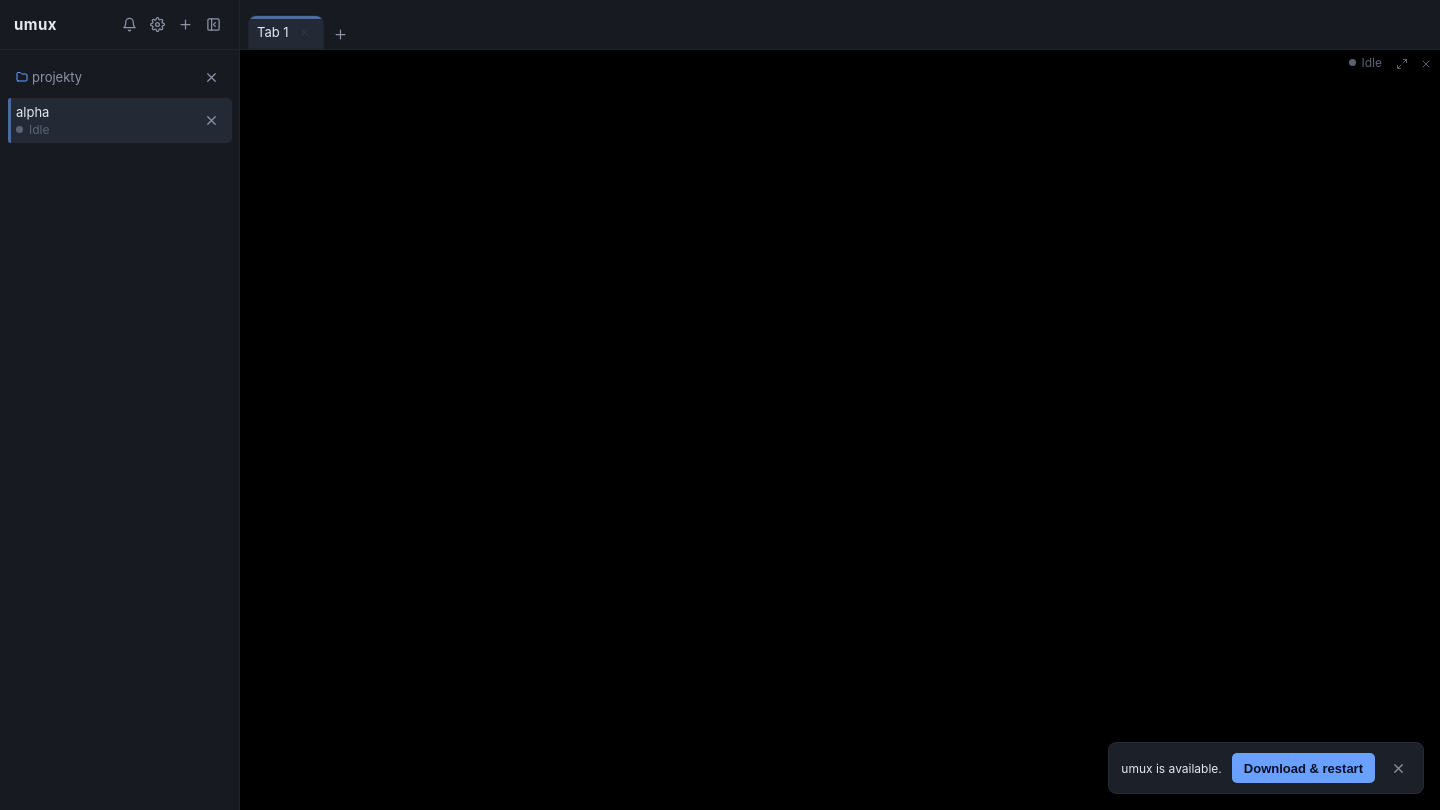
it: WorkspaceShell › workspace rows render NO inline rename pencil; group rows keep theirs (#71)
Expected: the text "alpha" is shown, [16, 104, 49, 120]
Right-click the list item with test id "workspace-row-ws-1": (120, 120) [8, 98, 232, 143]
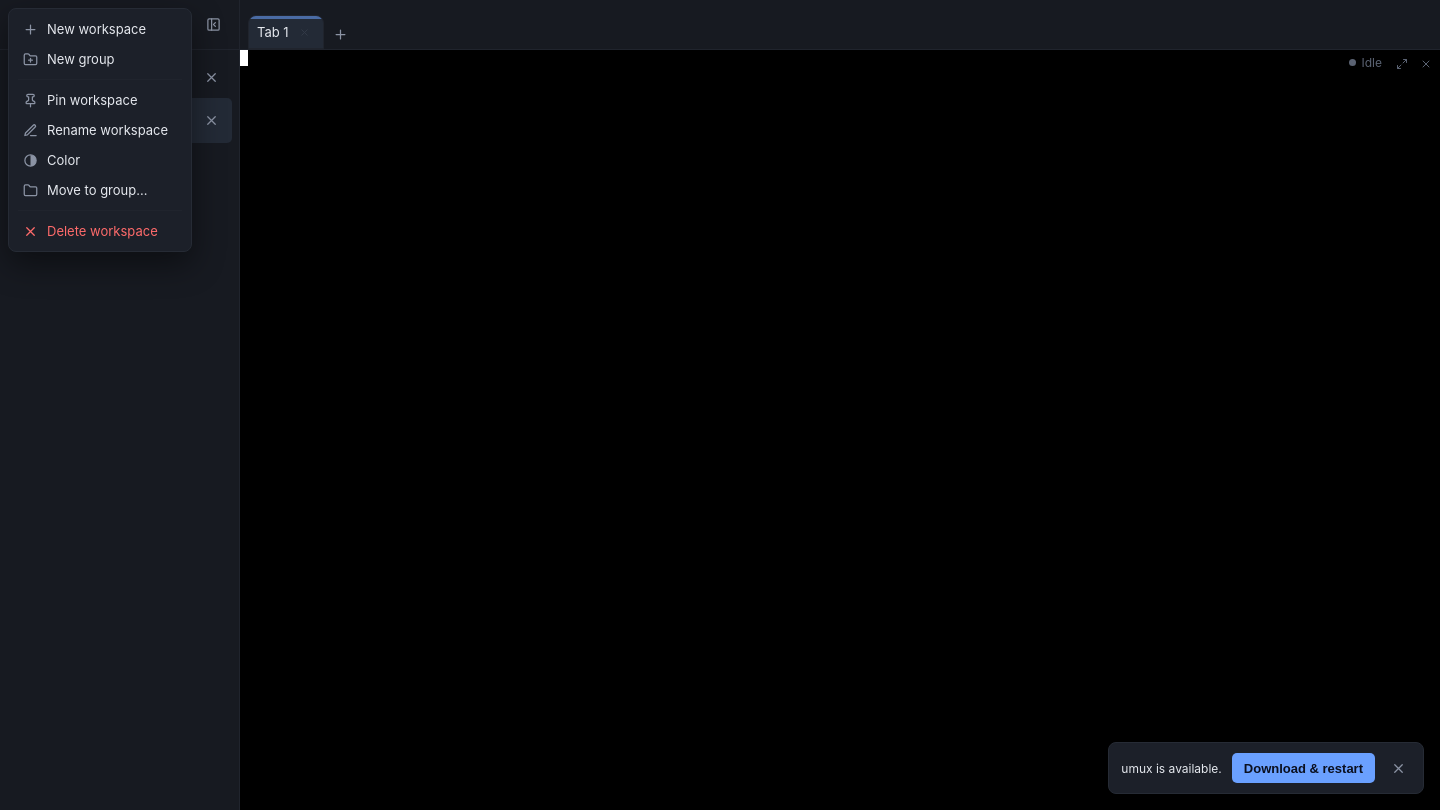
Click the menu item "Rename workspace": click(100, 130) [14, 115, 186, 145]
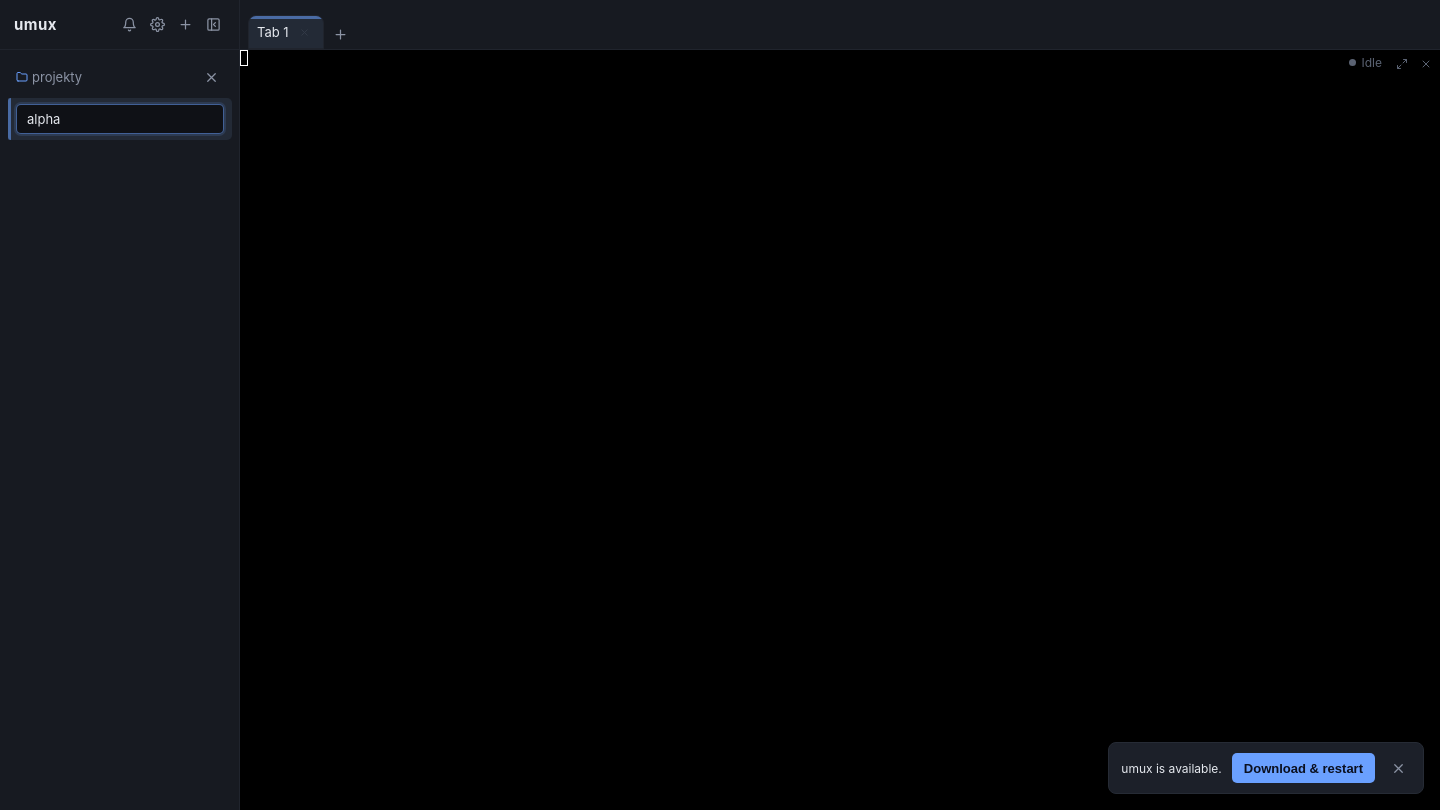
Now the field named "rename workspace" is shown, box [16, 104, 224, 134]
Note: The group menu's "Rename group" drives the group's inline edit.
Right-click the list item with test id "group-row-g-1": (57, 77) [8, 58, 232, 96]
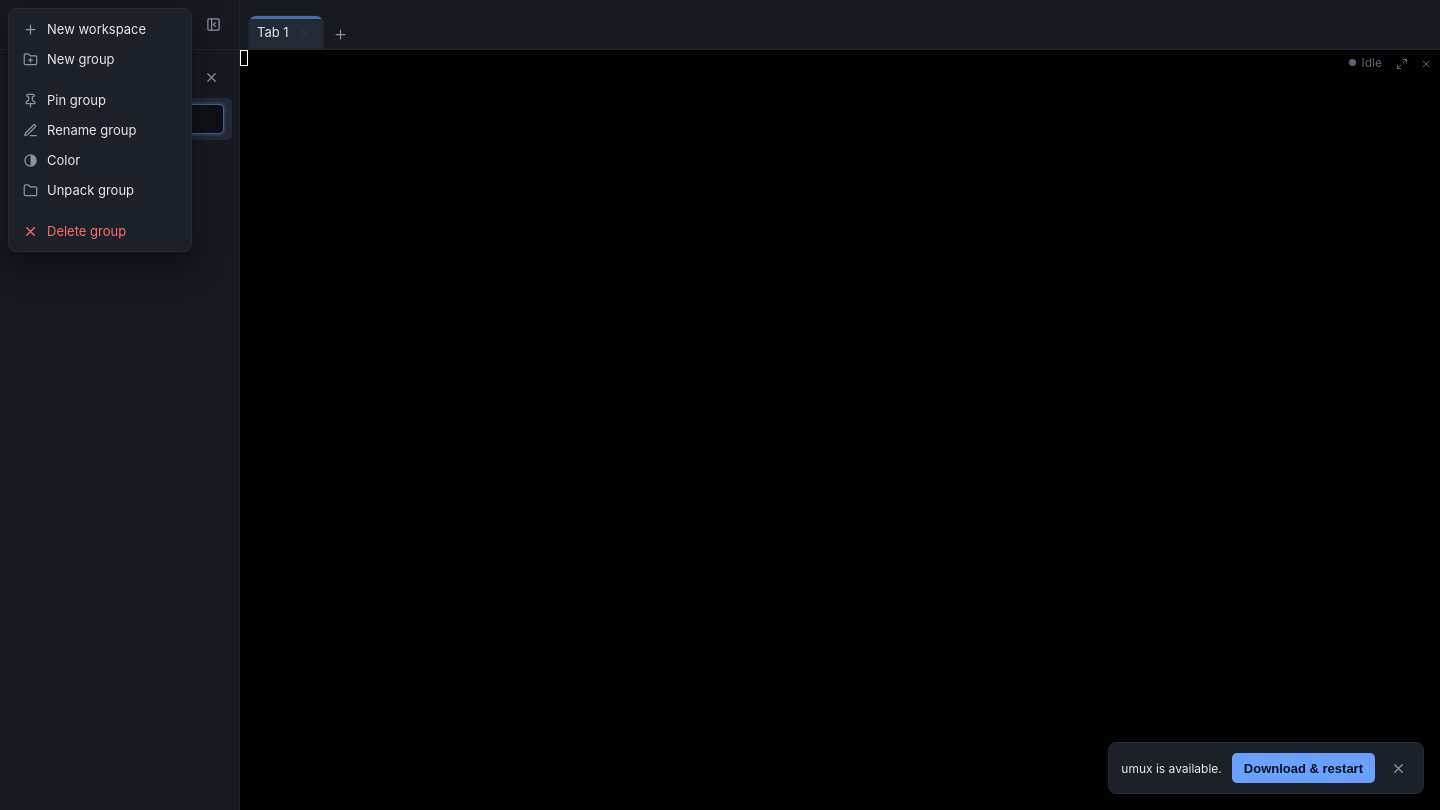
Click the menu item "Rename group": click(100, 130) [14, 115, 186, 145]
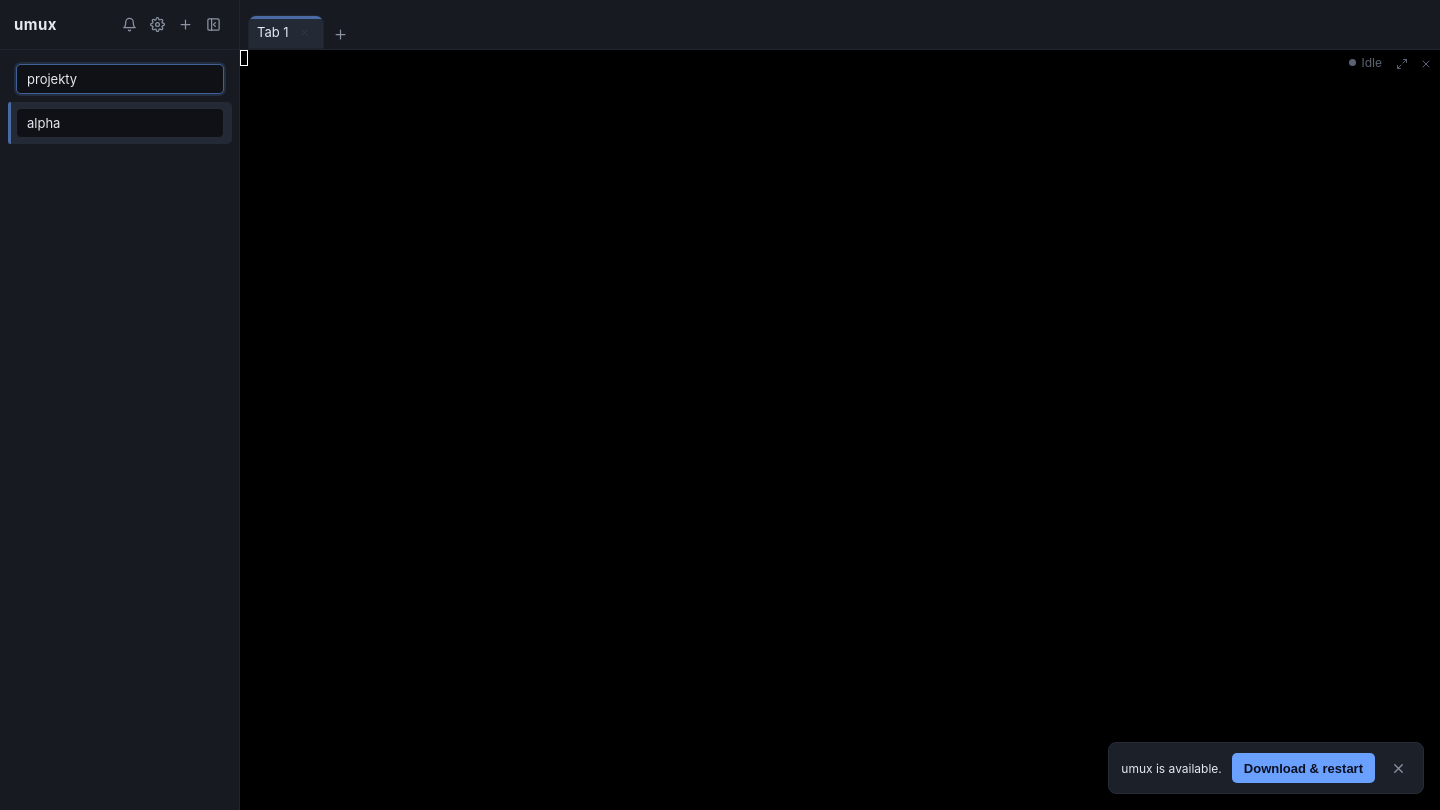
Now the field named "rename group" is shown, box [16, 64, 224, 94]
